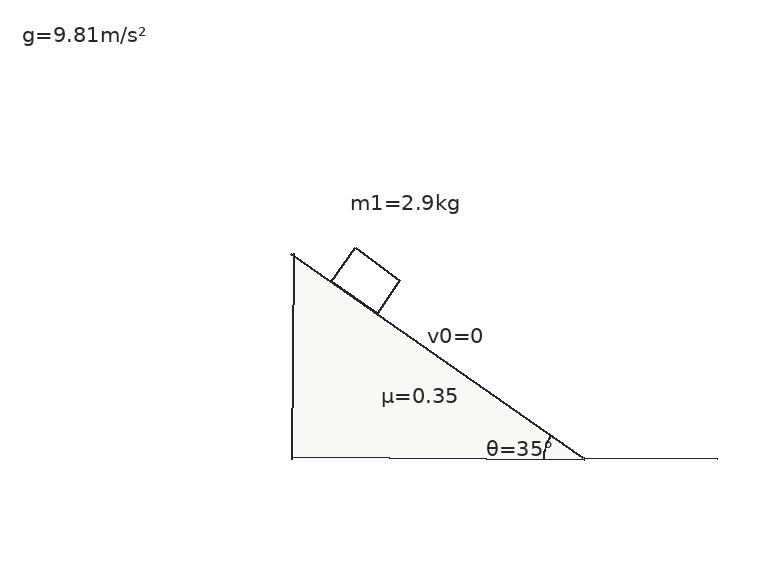block: (329, 246, 402, 315)
ramp: (290, 251, 586, 460)
